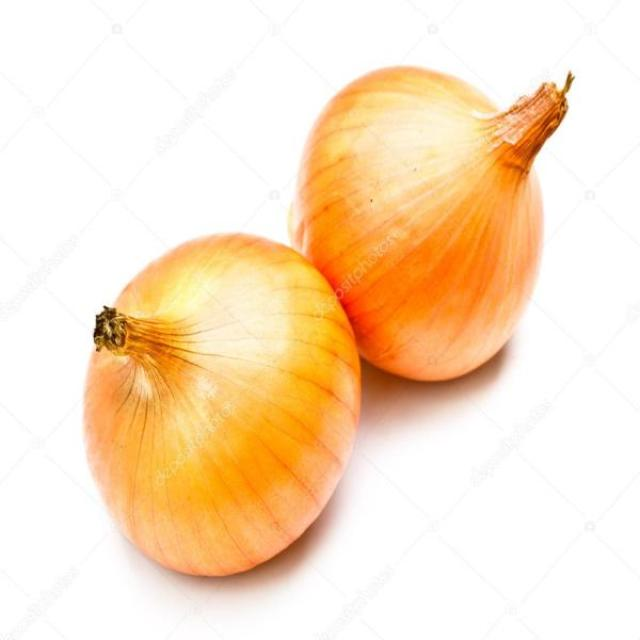Onion: (81, 234, 363, 580), (284, 66, 570, 384)
